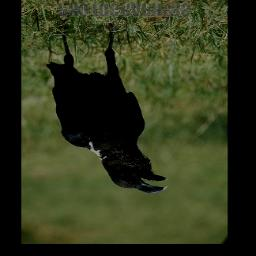Crow: (42, 18, 172, 198)
